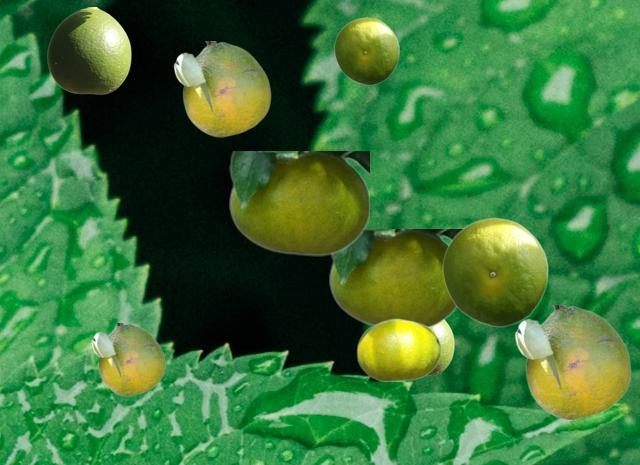dalandan: (229, 151, 368, 255), (514, 305, 630, 419), (329, 229, 460, 328), (442, 217, 547, 326), (173, 41, 270, 136), (47, 7, 130, 93), (356, 318, 440, 381), (91, 323, 164, 395), (334, 17, 398, 84), (430, 321, 453, 374)
